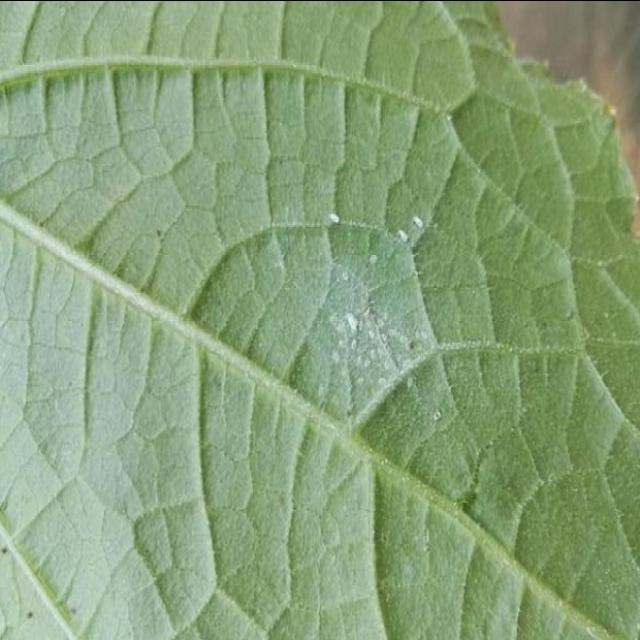Whitefly: (300, 182, 440, 412)
